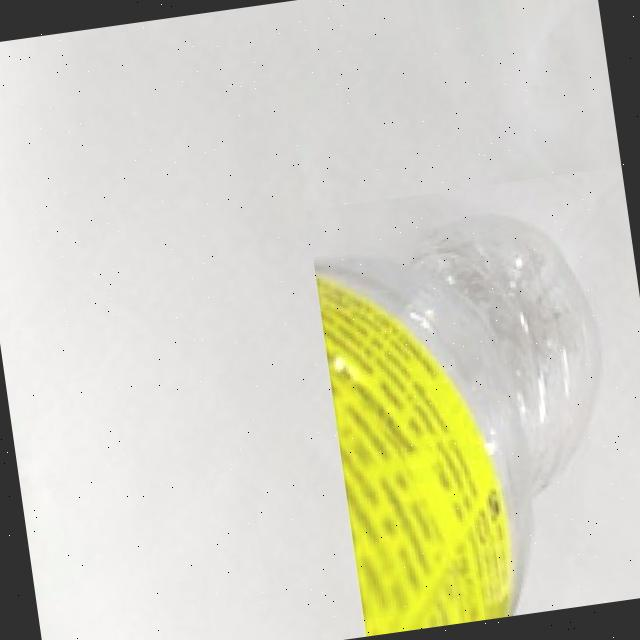bottle: (306, 166, 640, 636)
label: (294, 257, 530, 640)
